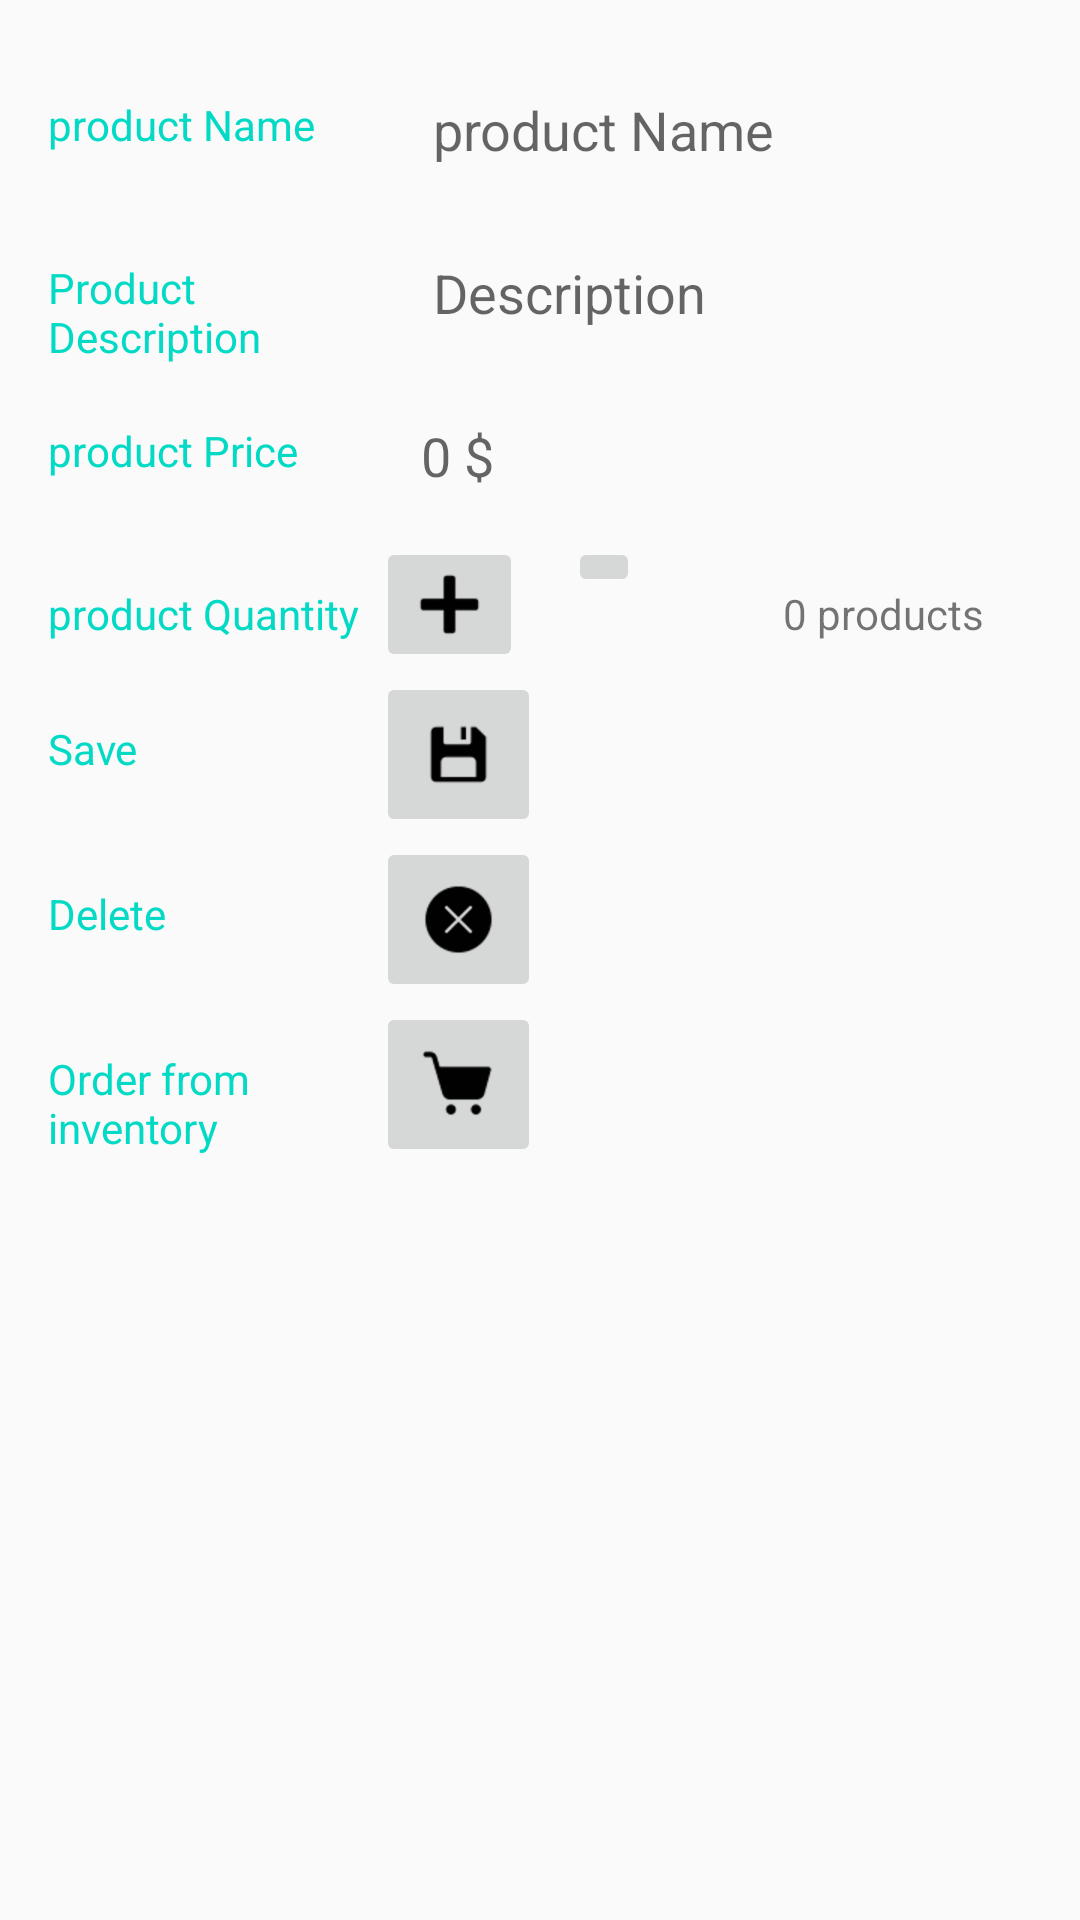

Named icons in this screenshot (1080 × 1920) and their bounding boxes, [left=x1, top=y1, right=x2, bottom=y2]:
cancel: [left=388, top=855, right=529, bottom=984]
plus math: [left=388, top=555, right=511, bottom=654]
shopping cart: [left=388, top=1020, right=529, bottom=1149]
